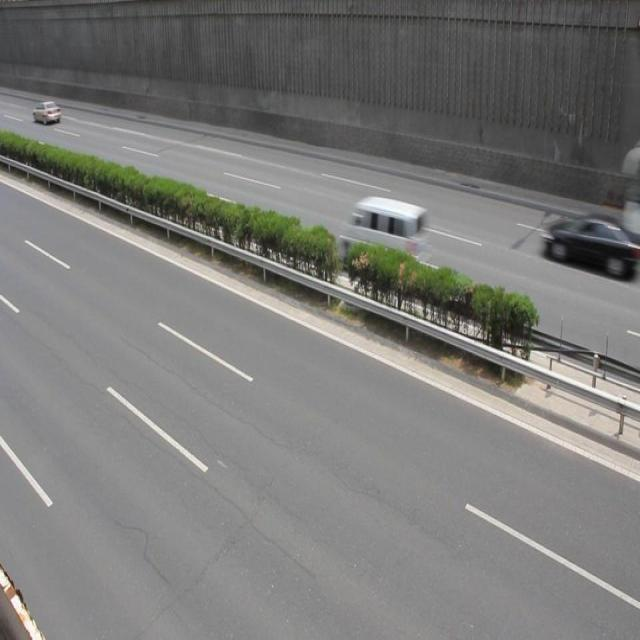car: (540, 213, 624, 276)
truck: (343, 196, 429, 280)
